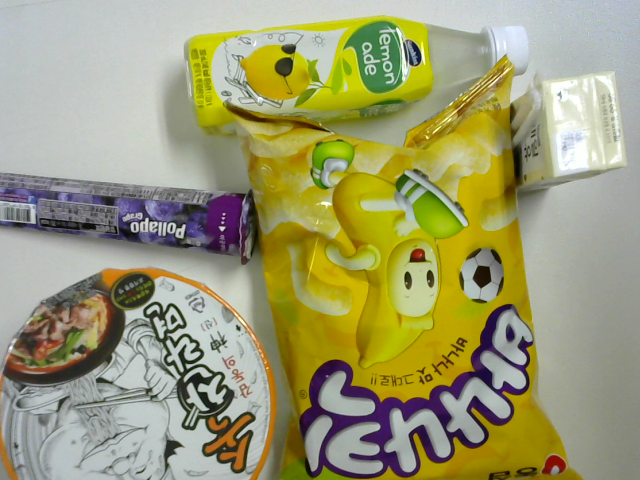99.89_Soymilk: (511, 76, 619, 198)
Banana_Kick: (239, 58, 582, 480)
Hejangchan: (1, 268, 282, 480)
Polapo_Grape: (3, 170, 265, 266)
Sunkist_Lemonaid_Pet: (179, 20, 527, 130)
